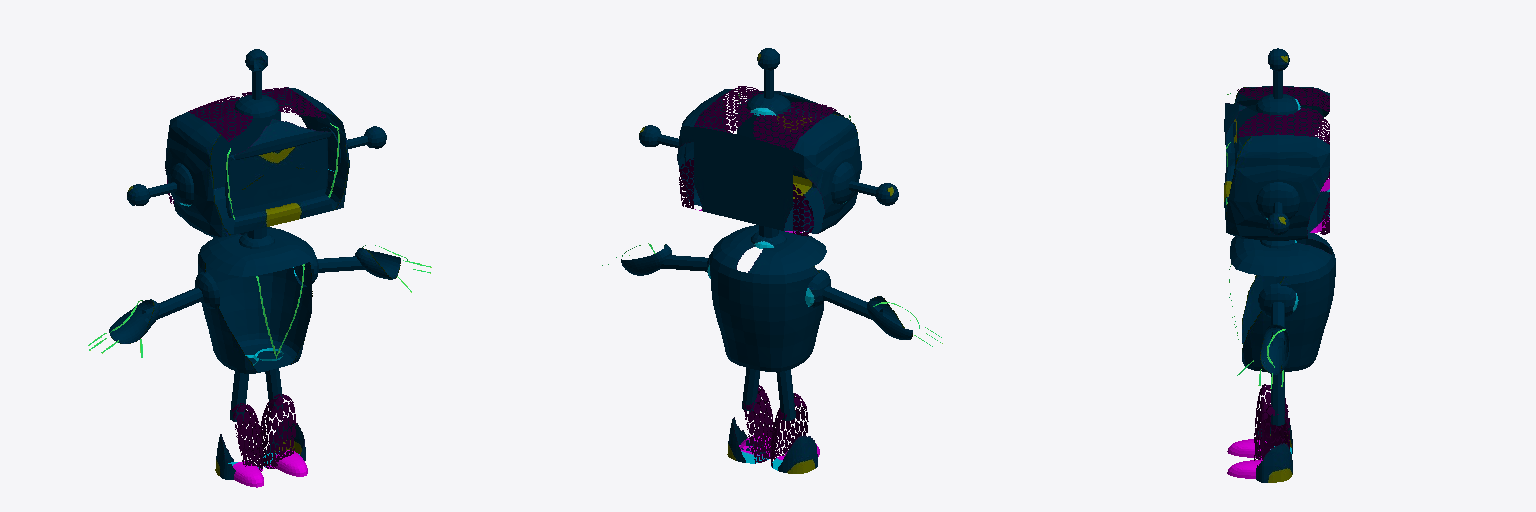
3 renders of one model, left to right at view 1: azimuth 30°, elevation 25°; view 2: azimuth 150°, elevation 25°; view 3: azimuth 270°, elevation 25°, orthographic.
Size of the model in its own units: 1.72 by 1.95 by 0.4811.
Materials: 1 (1 with a texture image).